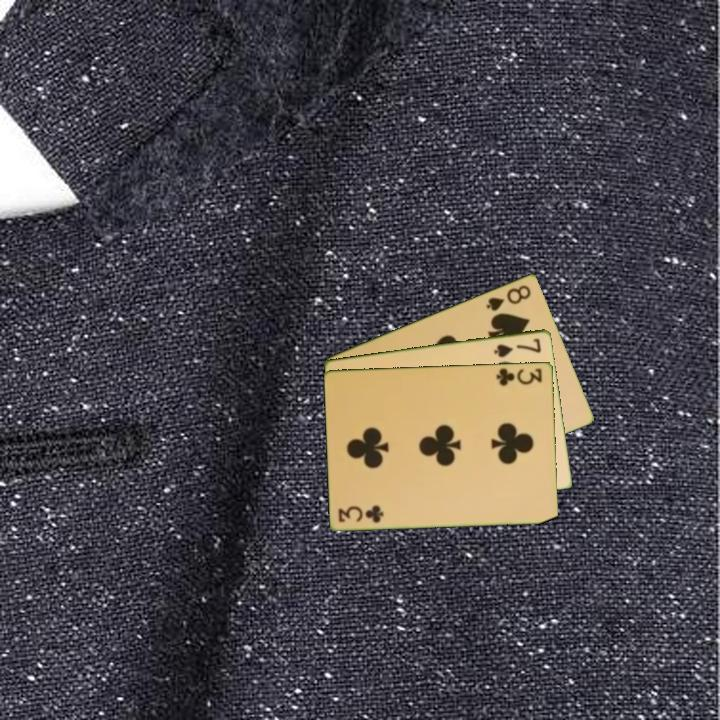3c: (493, 364, 545, 388), (335, 503, 386, 525)
7s: (490, 334, 544, 360)
8s: (483, 281, 534, 314)
